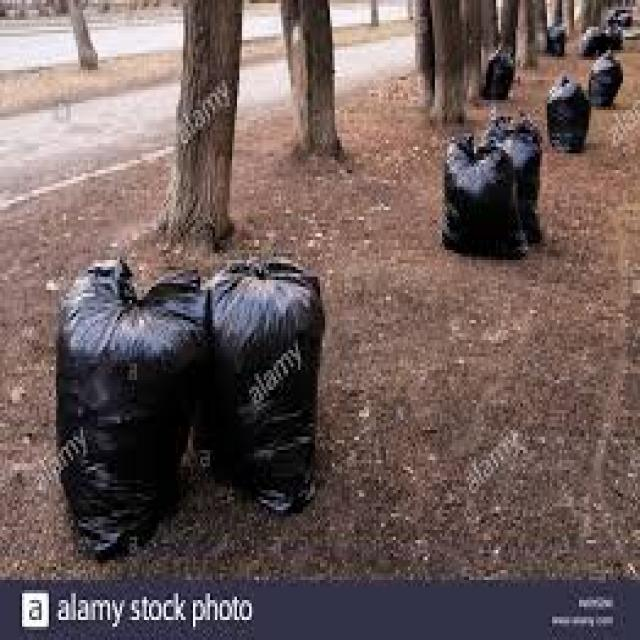plastic_bag: (53, 272, 212, 542), (214, 261, 314, 491), (446, 144, 517, 271), (488, 115, 539, 218), (551, 84, 587, 158), (482, 51, 524, 108), (597, 48, 626, 121), (578, 31, 597, 61), (541, 28, 565, 51), (614, 4, 634, 31), (602, 31, 616, 44)
